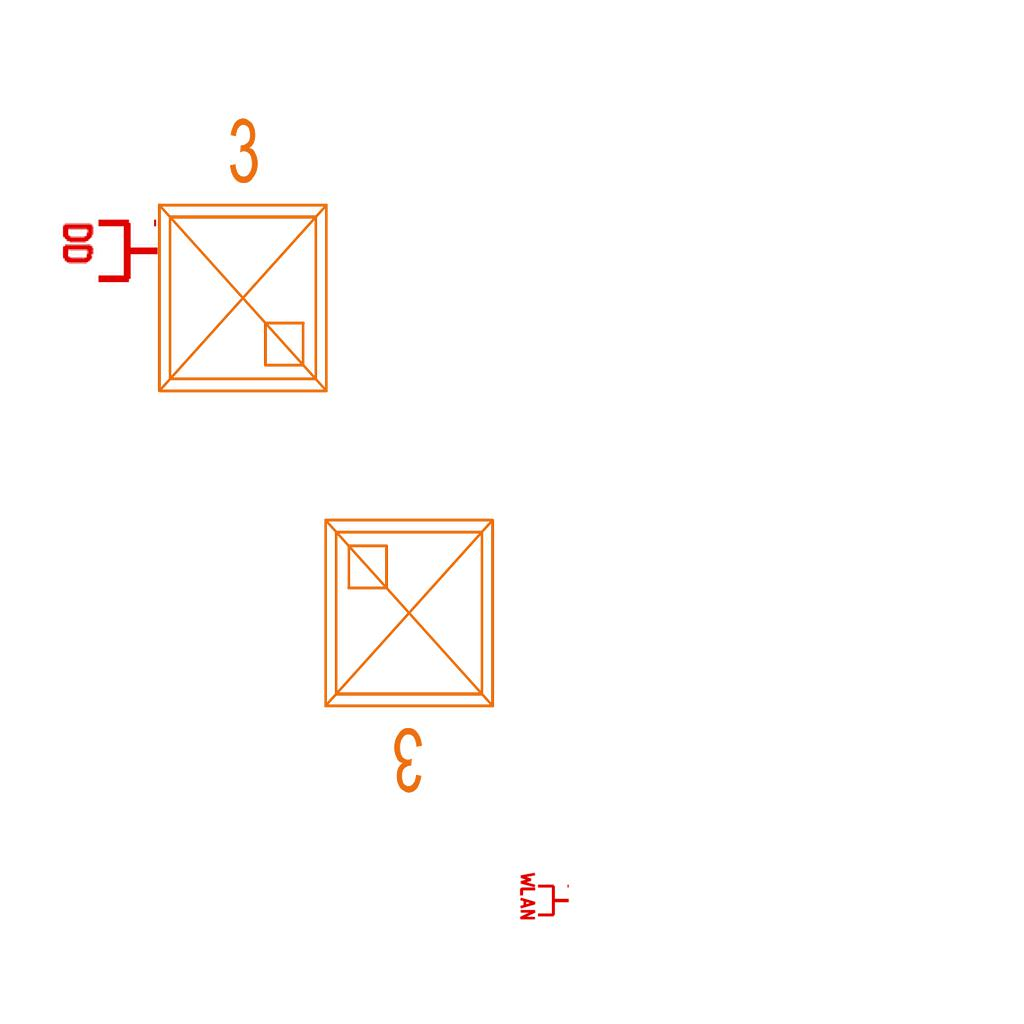Datenanschluss_zweifach: (58, 218, 161, 287)
Einbaudownlights_LED_Konferenzraeume: (135, 107, 343, 407), (309, 504, 517, 804)
WLAN: (519, 870, 571, 922)
